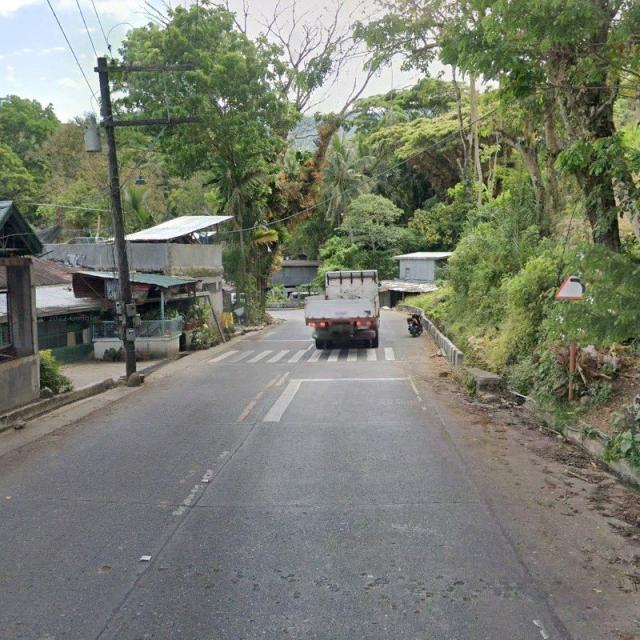warn_left_curve: (556, 258, 599, 300)
